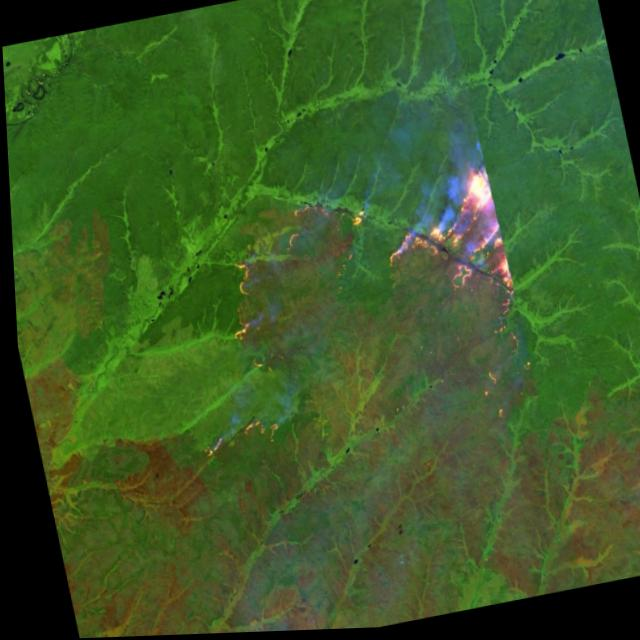fire: (371, 162, 529, 336), (211, 253, 277, 382), (190, 408, 281, 470), (338, 200, 375, 247)
